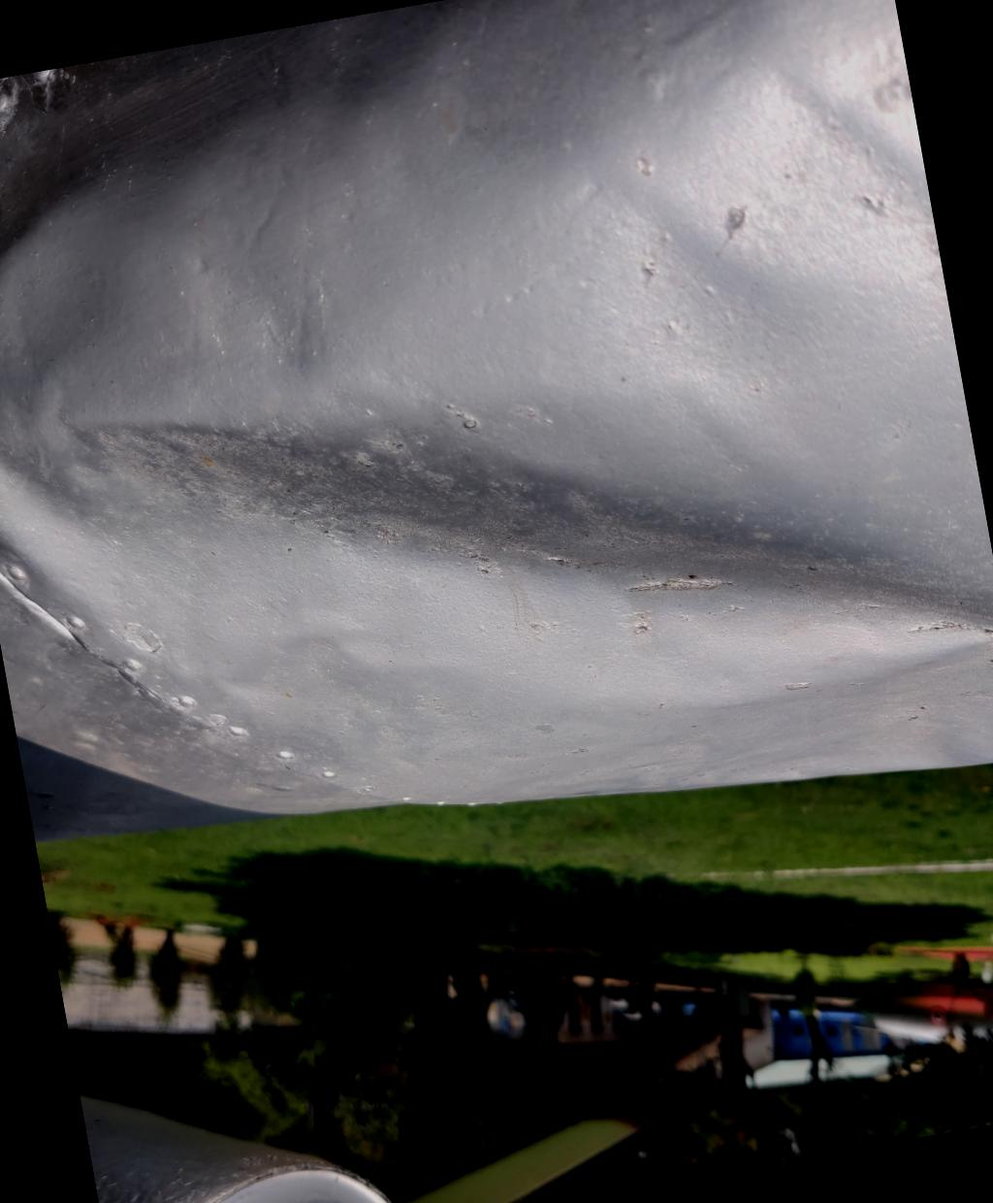dent: (0, 189, 993, 902), (564, 115, 818, 387), (703, 0, 939, 286)
